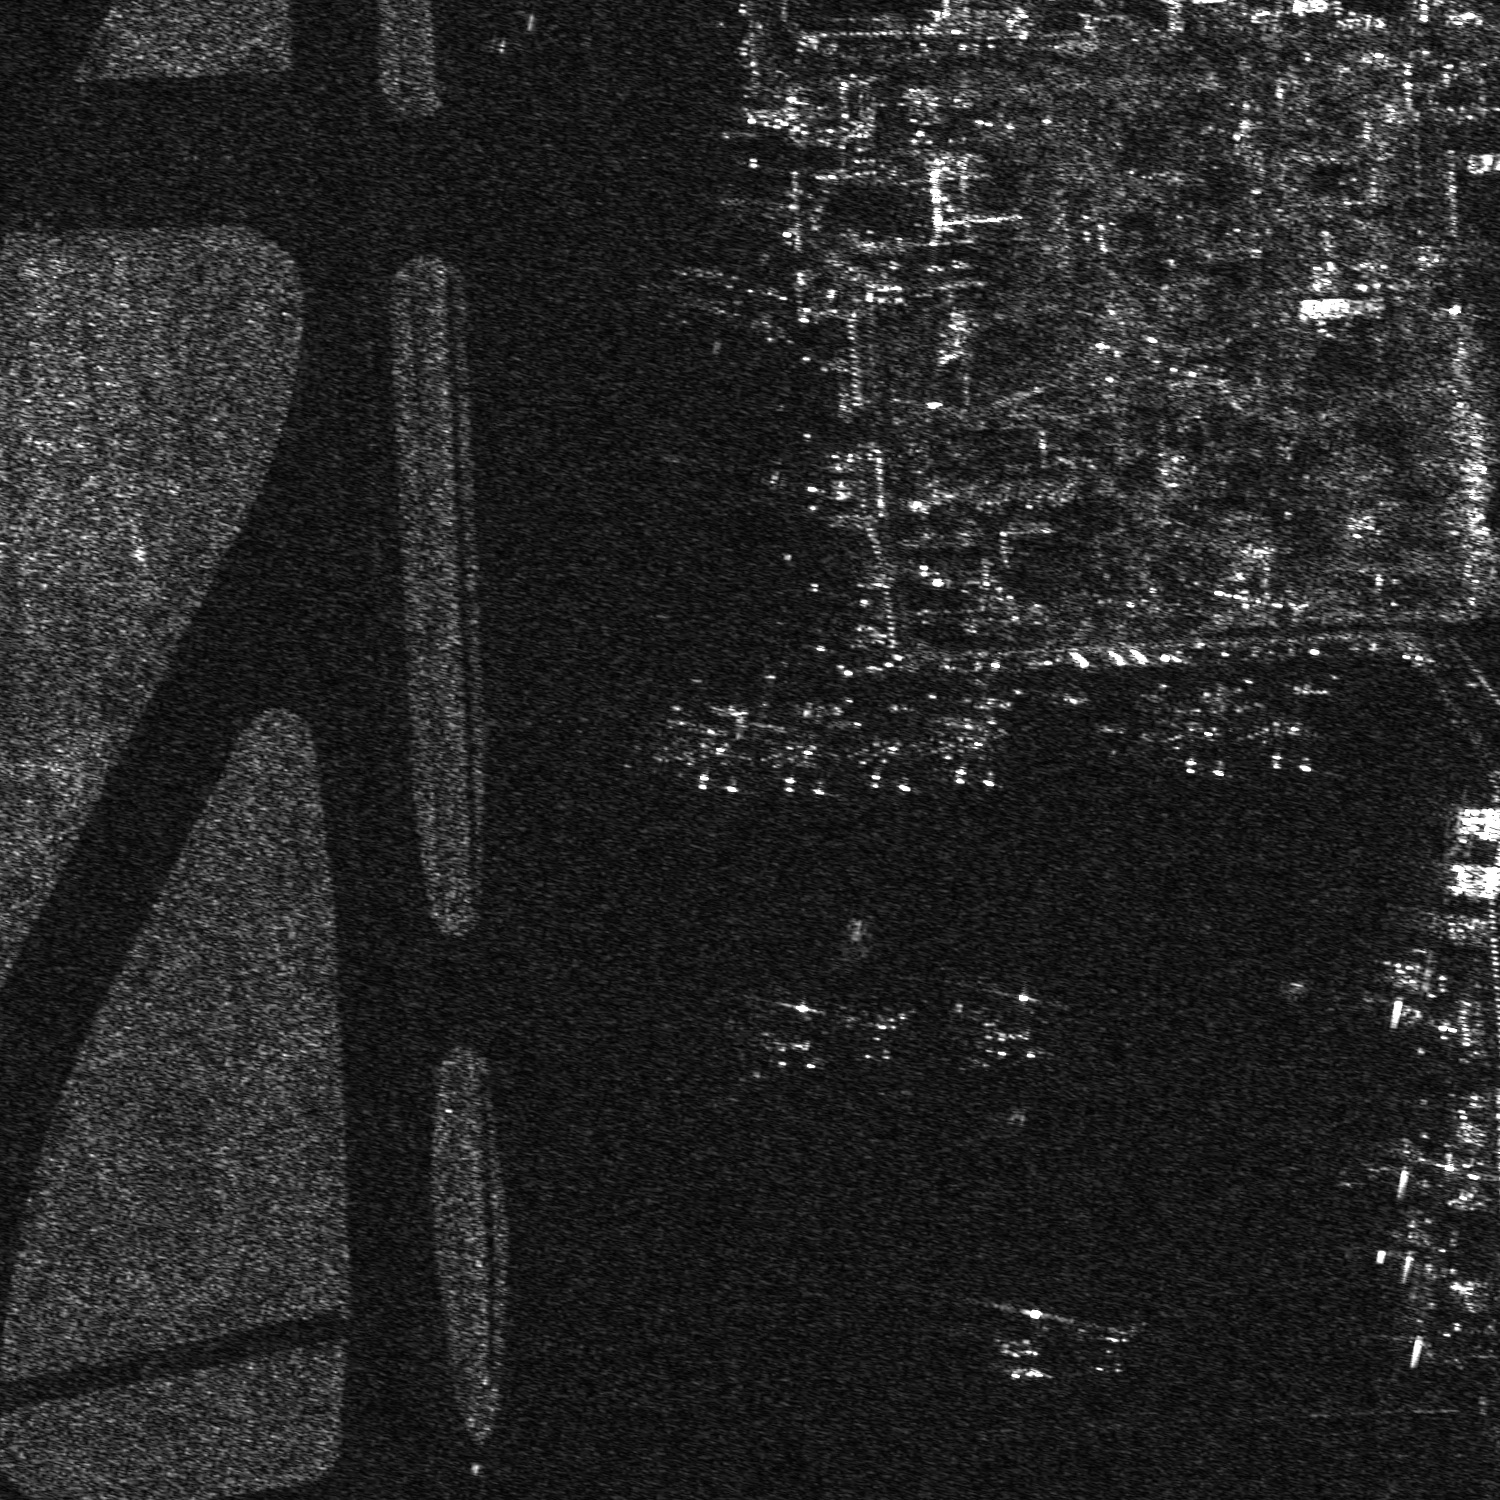A220: (1078, 1315, 1143, 1376)
A320/321: (681, 702, 754, 794)
ARJ21: (1159, 692, 1225, 779)
Boeing737: (1239, 681, 1330, 776), (757, 706, 841, 795), (848, 702, 926, 793)
other: (966, 1295, 1076, 1387), (955, 979, 1054, 1065), (929, 696, 1012, 791), (746, 992, 826, 1076), (843, 995, 929, 1069)
